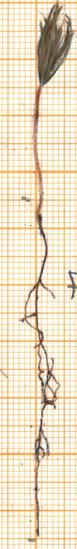flower: (19, 0, 77, 90)
root: (22, 201, 62, 540)
stem: (26, 84, 51, 202)
